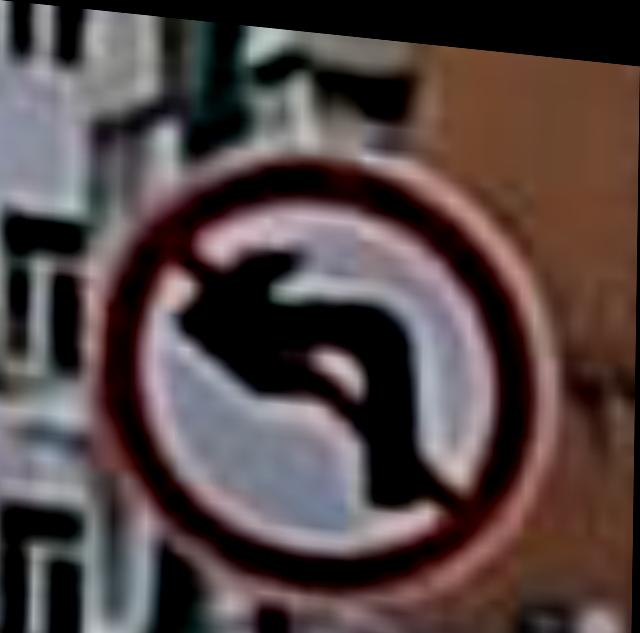not_turn_left: (28, 109, 580, 613)
